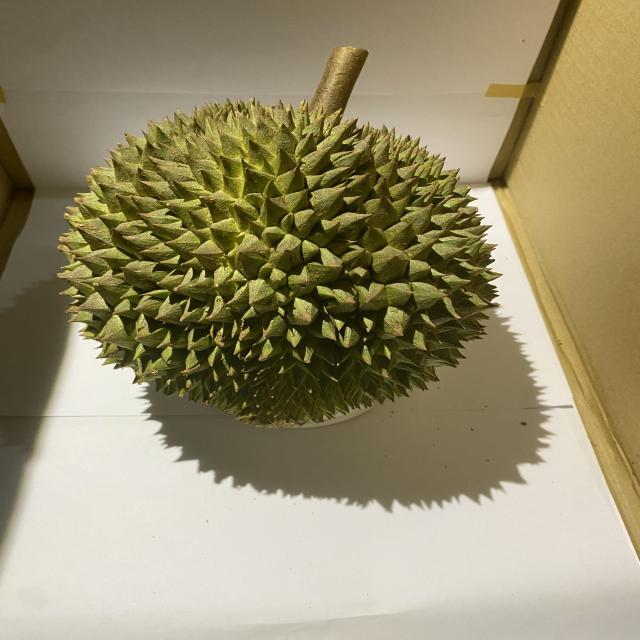immature: (52, 96, 503, 424)
